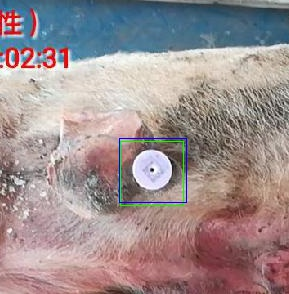text: (120, 141, 183, 205)
